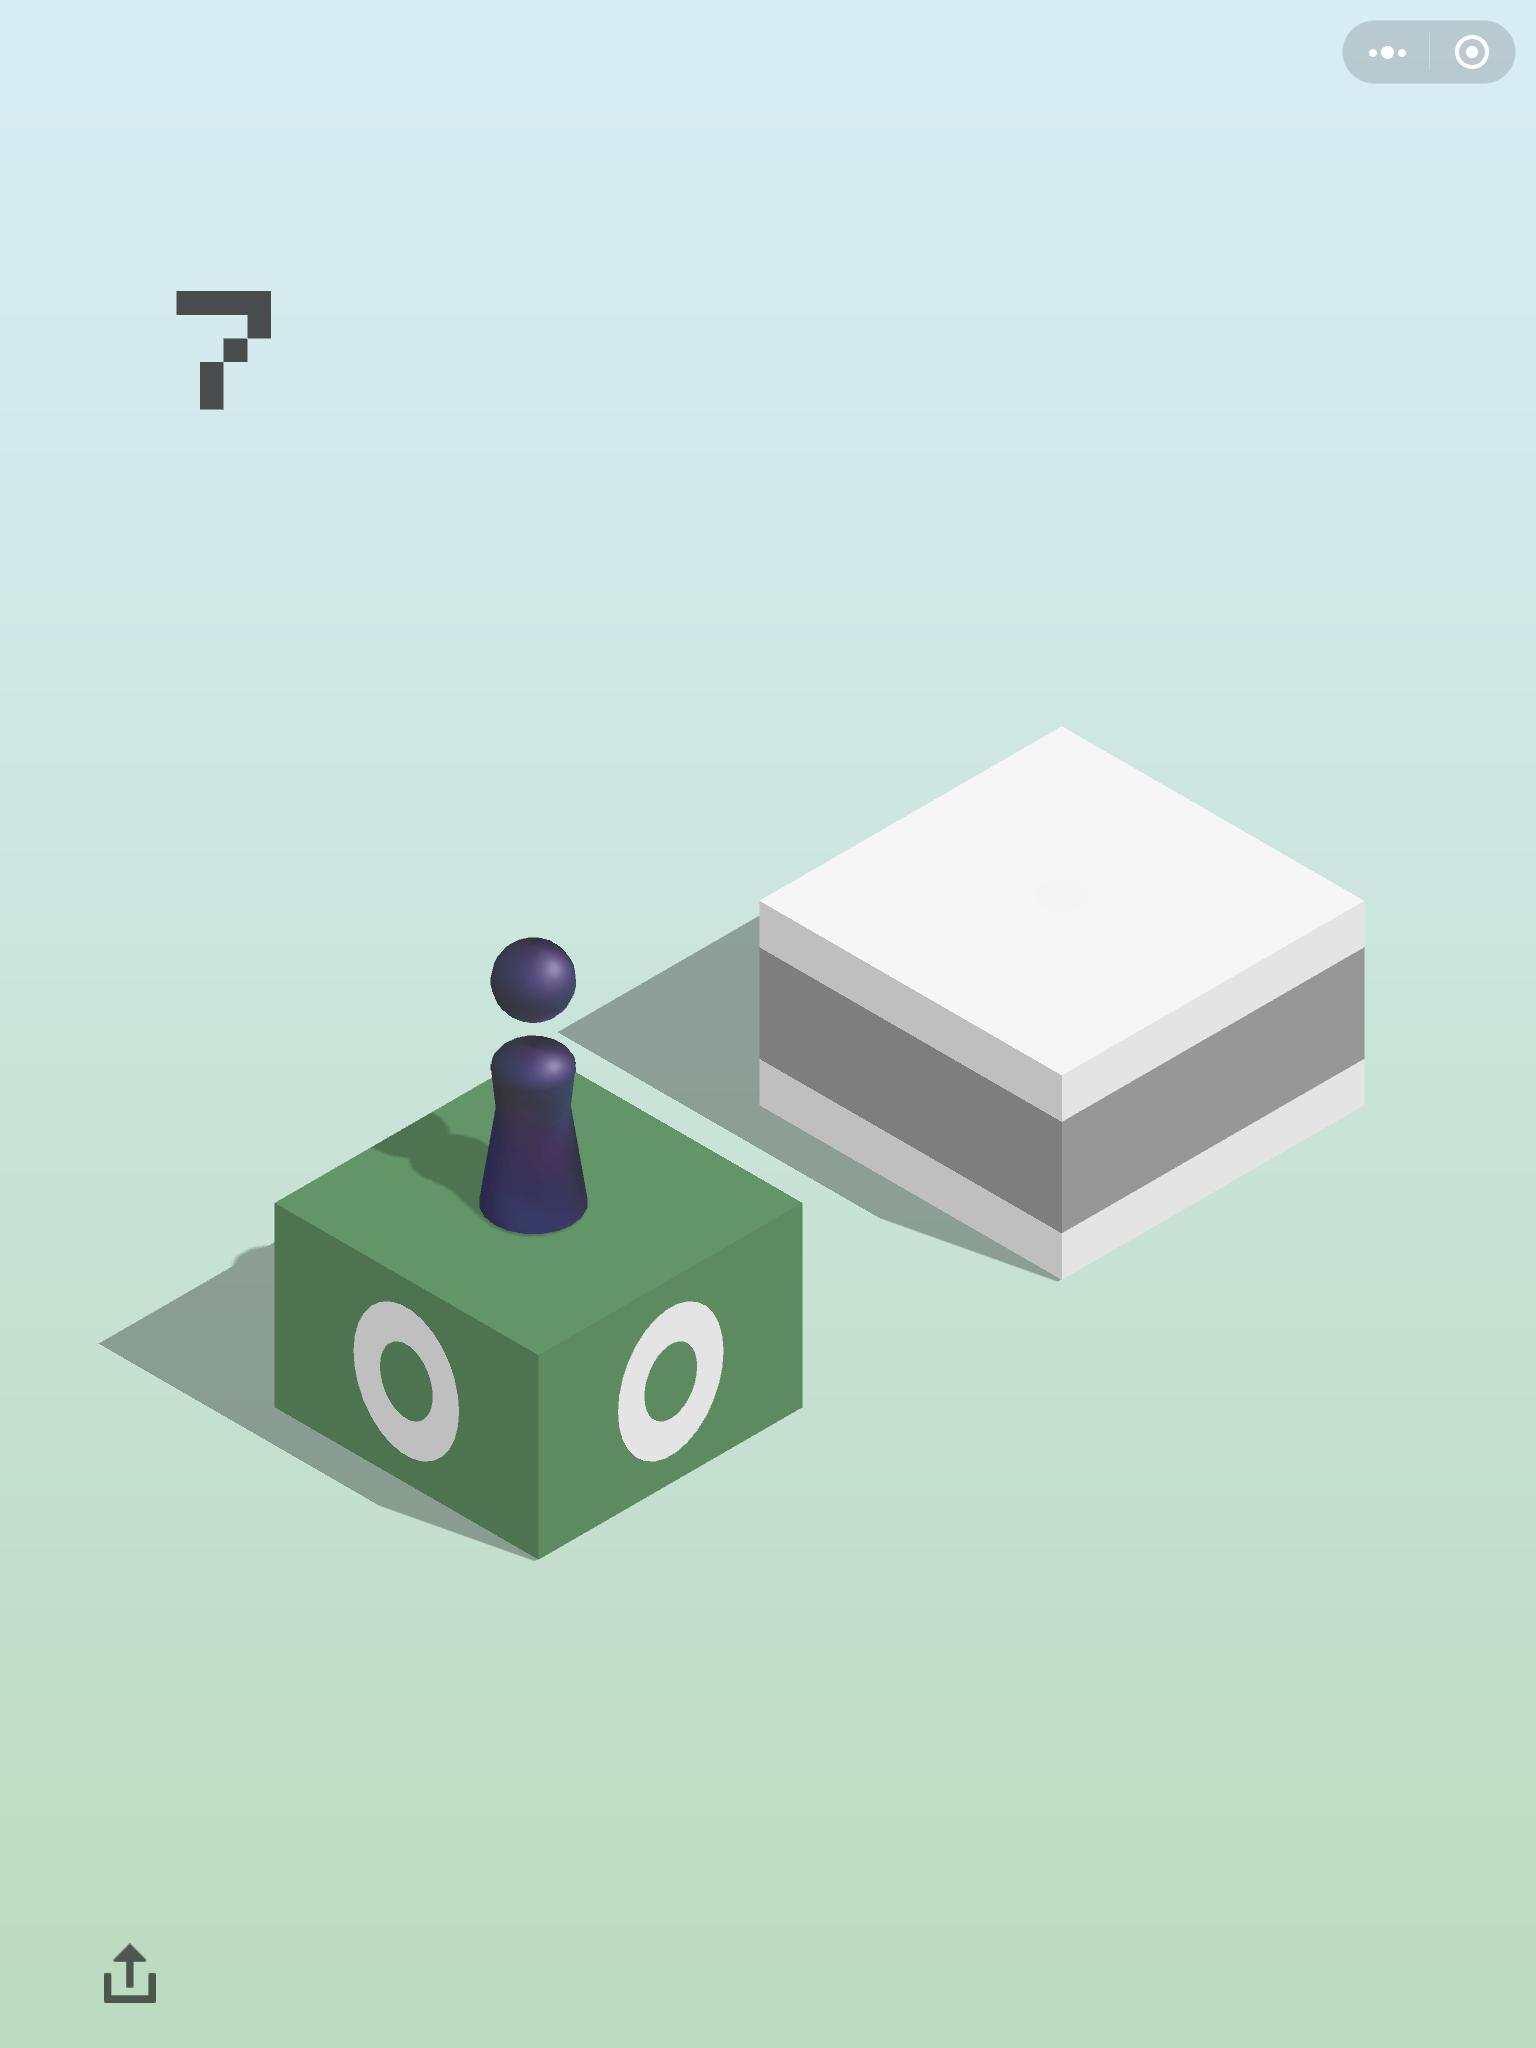f: (737, 706, 1381, 1297), (258, 1050, 820, 1576)
r: (476, 914, 603, 1256)
